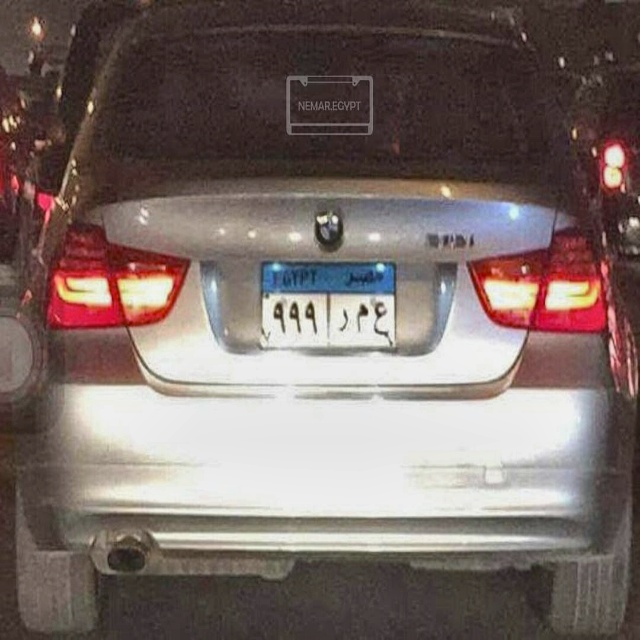License Plate: (257, 256, 400, 357)
